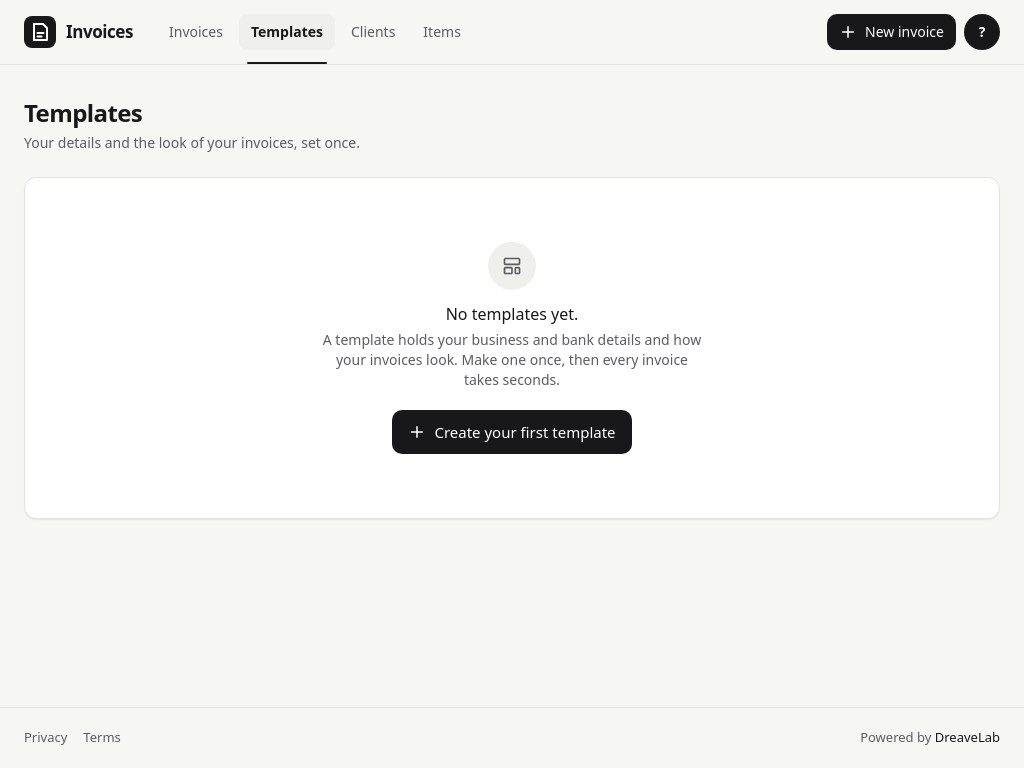
main navigation › goes Invoices, Templates, Clients, Items and marks the current page
The width and height of the screenshot is (1024, 768).
Click the link "Clients" at {"x": 373, "y": 32}, box [351,22,395,41]
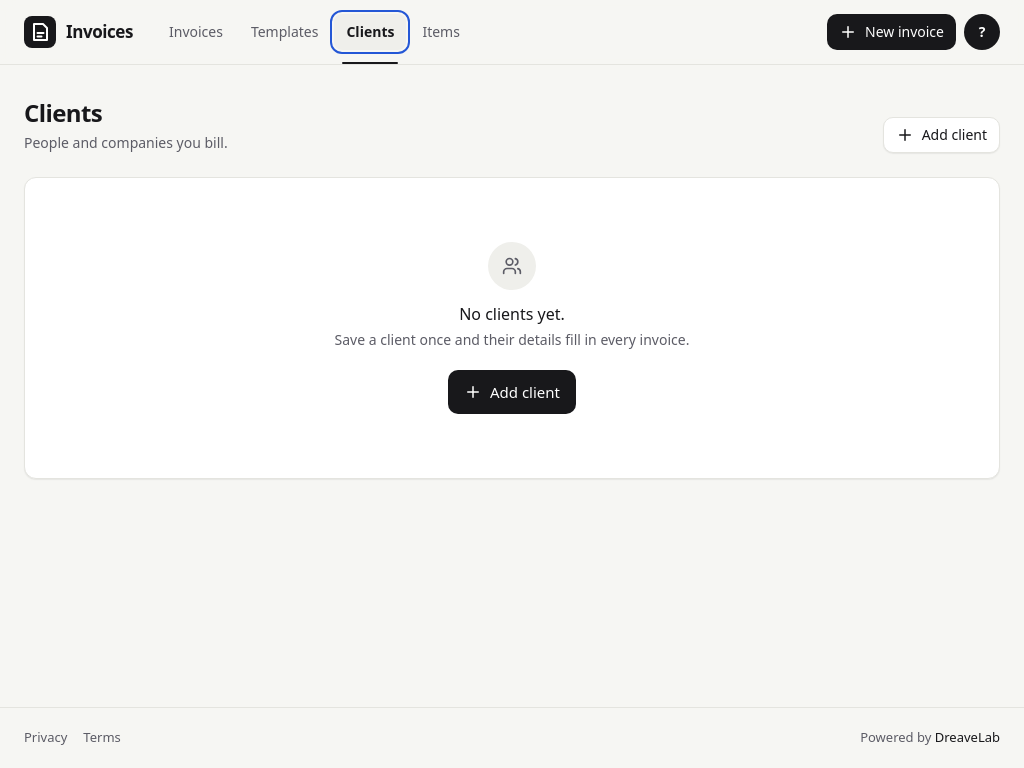
Expected: the link "Clients" is marked as current, [334,14,406,50]
